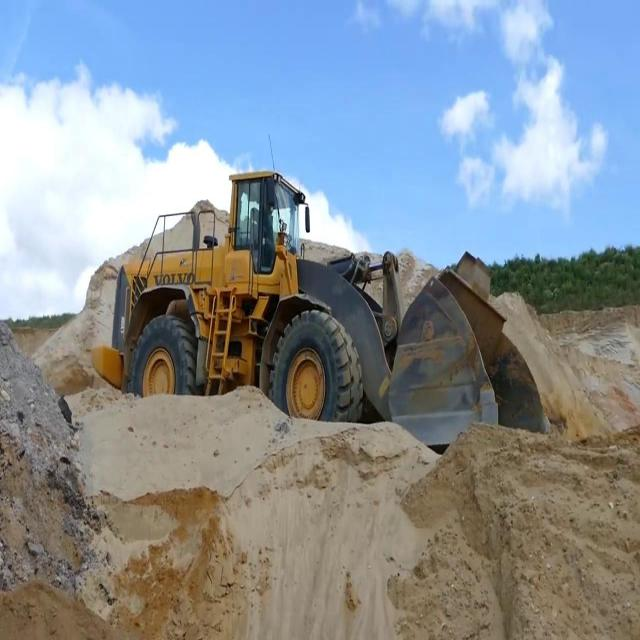Loader: (90, 166, 552, 452)
